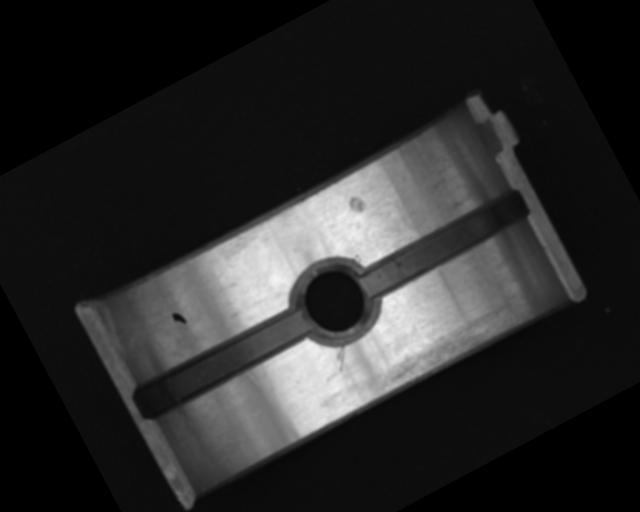blot: (169, 308, 188, 329)
bruise: (344, 191, 370, 217)
gap: (127, 299, 318, 425), (355, 184, 534, 302)
hole: (283, 246, 390, 357)
nick: (329, 343, 355, 373)
scratch: (370, 293, 533, 400)
